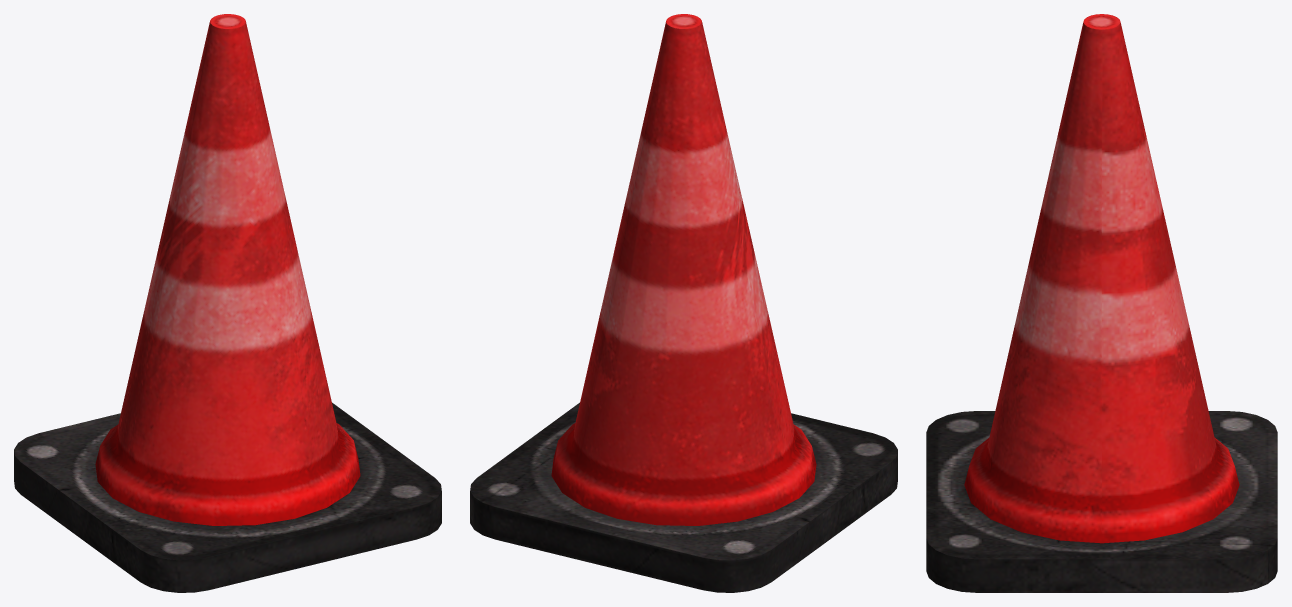
Rendered from Road_Сone.fbx.
3 renders of one model, left to right at view 1: azimuth 30°, elevation 25°; view 2: azimuth 150°, elevation 25°; view 3: azimuth 270°, elevation 25°, orthographic. The views are drawn at different scales.
Parts seen in each view (by area): view 1: Road_Сone_LOD0; view 2: Road_Сone_LOD0; view 3: Road_Сone_LOD0.
Boxes of the visible parts, left/top/right/bottom form: Road_Сone_LOD0: left=14, top=14, right=441, bottom=592; Road_Сone_LOD0: left=470, top=14, right=897, bottom=592; Road_Сone_LOD0: left=926, top=14, right=1277, bottom=592.
Size of what is drawn, in the model's own units: 32.56 by 50.8 by 32.56.
